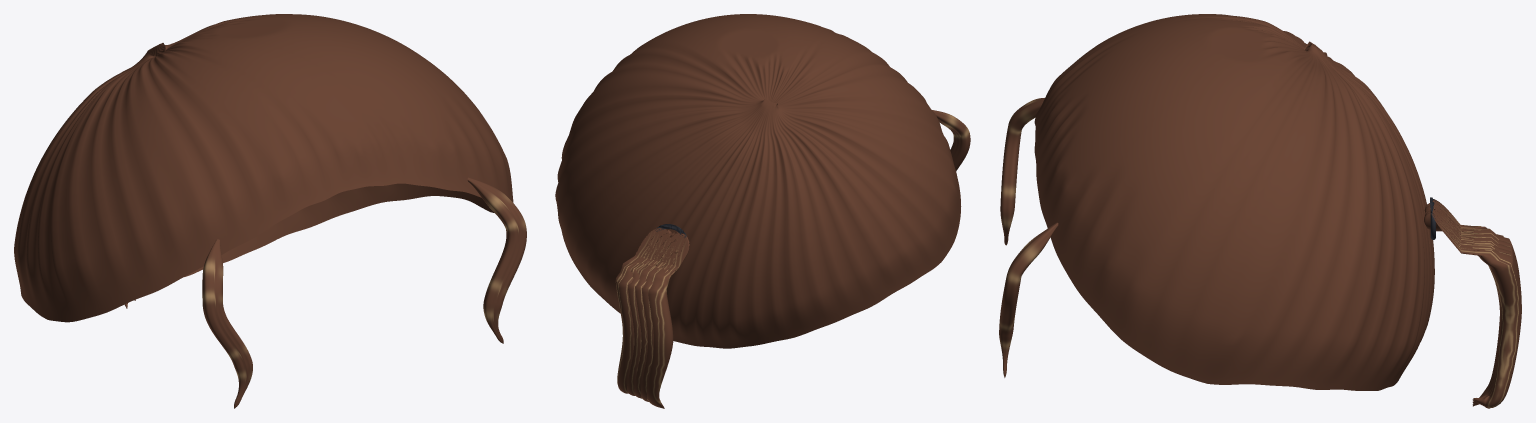
The model's file is Highlights-010e6871b0ff252-hair.glb.
The picture shows the model from 3 angles, left to right: view 1: azimuth 30°, elevation 25°; view 2: azimuth 150°, elevation 25°; view 3: azimuth 270°, elevation 25°; orthographic projection. The views are drawn at different scales.
Visible parts, largest first — view 1: 226 hair / Hair / crisp pulled roots220.002, 226 hair / Hair / sculpted front locks222.002; view 2: 226 hair / Hair / crisp pulled roots220.002, 226 hair / Hair / chestnut226.001, 226 hair / Hair / sculpted front locks222.002; view 3: 226 hair / Hair / crisp pulled roots220.002, 226 hair / Hair / chestnut226.001, 226 hair / Hair / sculpted front locks222.002.
Part boxes in pixels (bbox=[...]): 226 hair / Hair / crisp pulled roots220.002: bbox=[14, 14, 513, 322]; 226 hair / Hair / sculpted front locks222.002: bbox=[202, 177, 526, 408]; 226 hair / Hair / crisp pulled roots220.002: bbox=[555, 14, 961, 348]; 226 hair / Hair / chestnut226.001: bbox=[615, 228, 689, 408]; 226 hair / Hair / sculpted front locks222.002: bbox=[932, 110, 970, 171]; 226 hair / Hair / crisp pulled roots220.002: bbox=[1034, 14, 1434, 390]; 226 hair / Hair / chestnut226.001: bbox=[1424, 199, 1521, 408]; 226 hair / Hair / sculpted front locks222.002: bbox=[999, 98, 1058, 377].
Size of the model in its own units: 0.9675 by 0.7594 by 0.9676.
4 materials, 3 textured.
